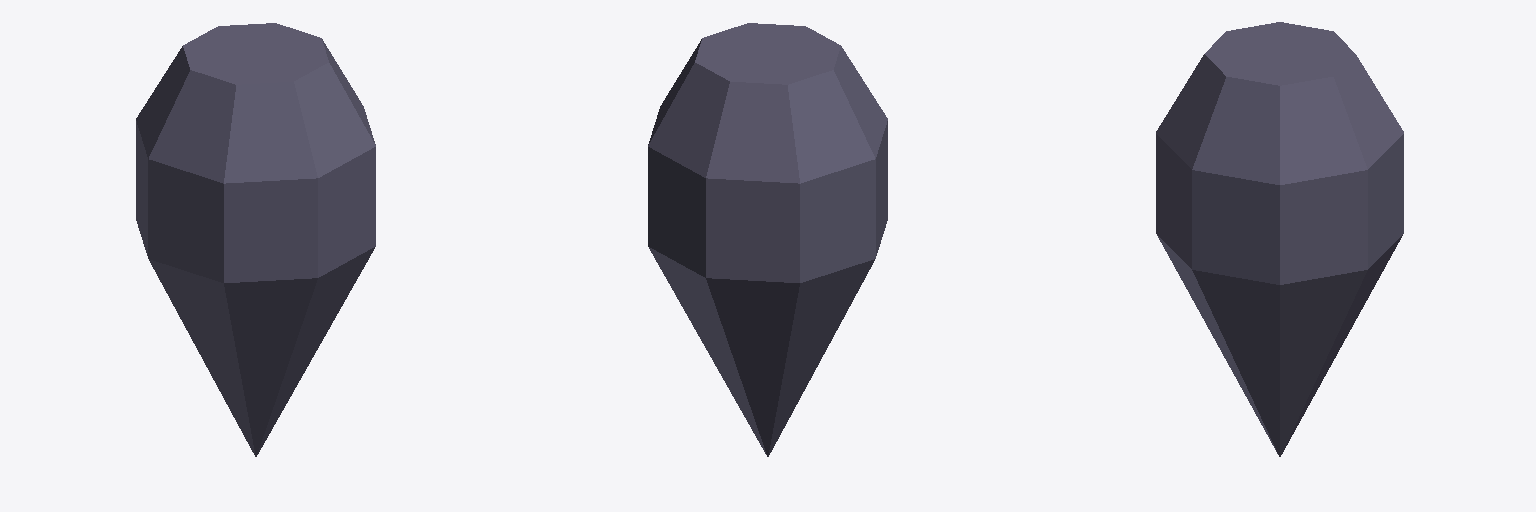
File: pointer.obj
3 views of the same model, side by side, from view 1: azimuth 30°, elevation 25°; view 2: azimuth 150°, elevation 25°; view 3: azimuth 270°, elevation 25° (orthographic).
Visible parts, largest first — view 1: pointer_Mesh.001; view 2: pointer_Mesh.001; view 3: pointer_Mesh.001.
Boxes of the visible parts, <box> form: pointer_Mesh.001: <box>136,23,375,456</box>; pointer_Mesh.001: <box>648,23,887,456</box>; pointer_Mesh.001: <box>1156,22,1403,456</box>.
Bounding box in the file's own units: 0.16 × 0.2868 × 0.16.